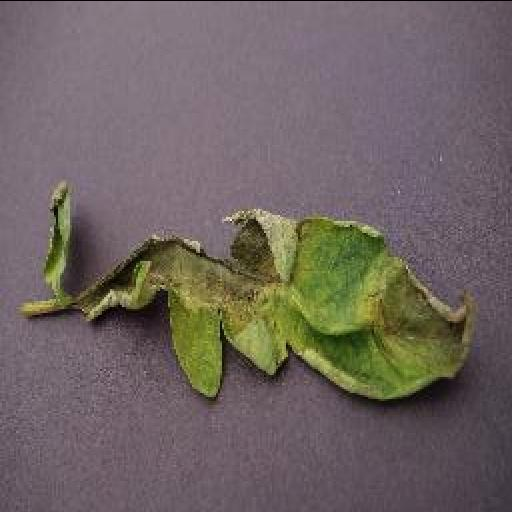disease_tomato: (76, 209, 470, 407), (32, 176, 82, 282)
